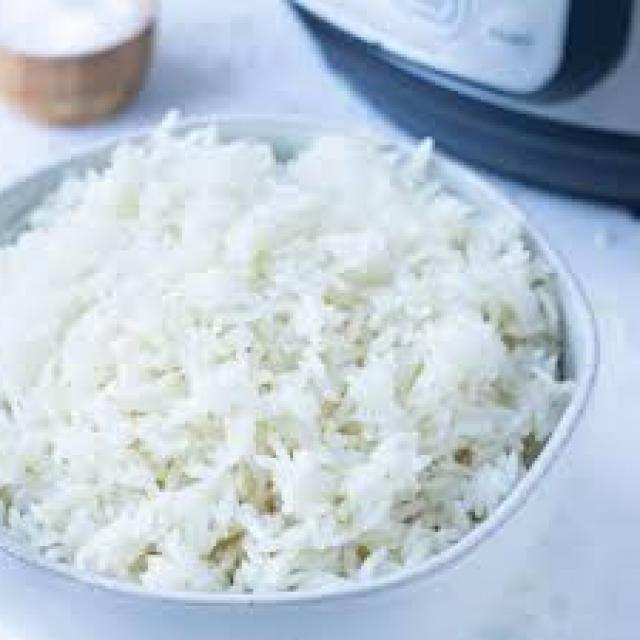White Rice: (0, 157, 563, 600)
